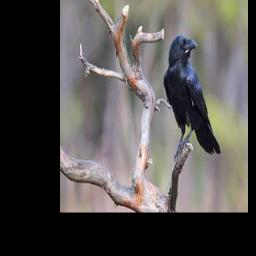Crow: (163, 33, 222, 159)
